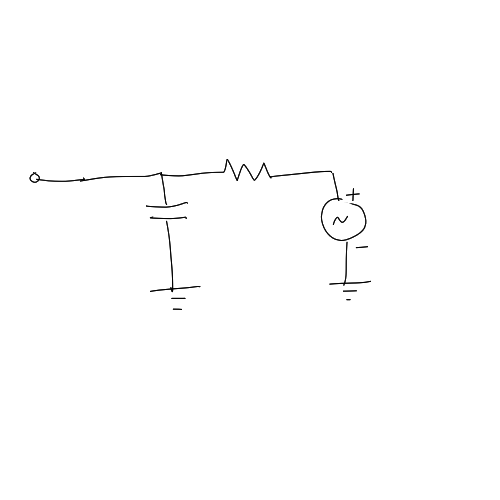acvs: (311, 186, 375, 251)
cap: (140, 199, 193, 222)
gnd: (146, 284, 208, 316), (324, 275, 376, 305)
probe: (27, 168, 44, 186)
res: (216, 155, 278, 185)
